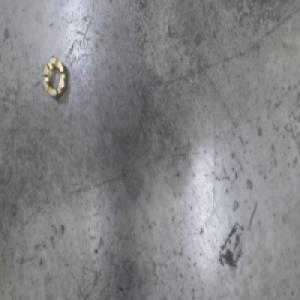Nut: (41, 53, 68, 102)
